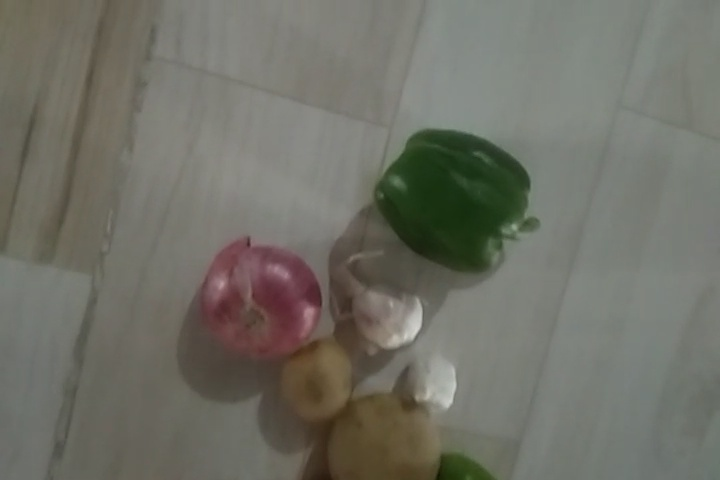capsicum: (374, 125, 535, 277)
garlic: (340, 272, 426, 357), (402, 353, 457, 418)
onion: (202, 248, 316, 356)
potato: (287, 348, 353, 424)
